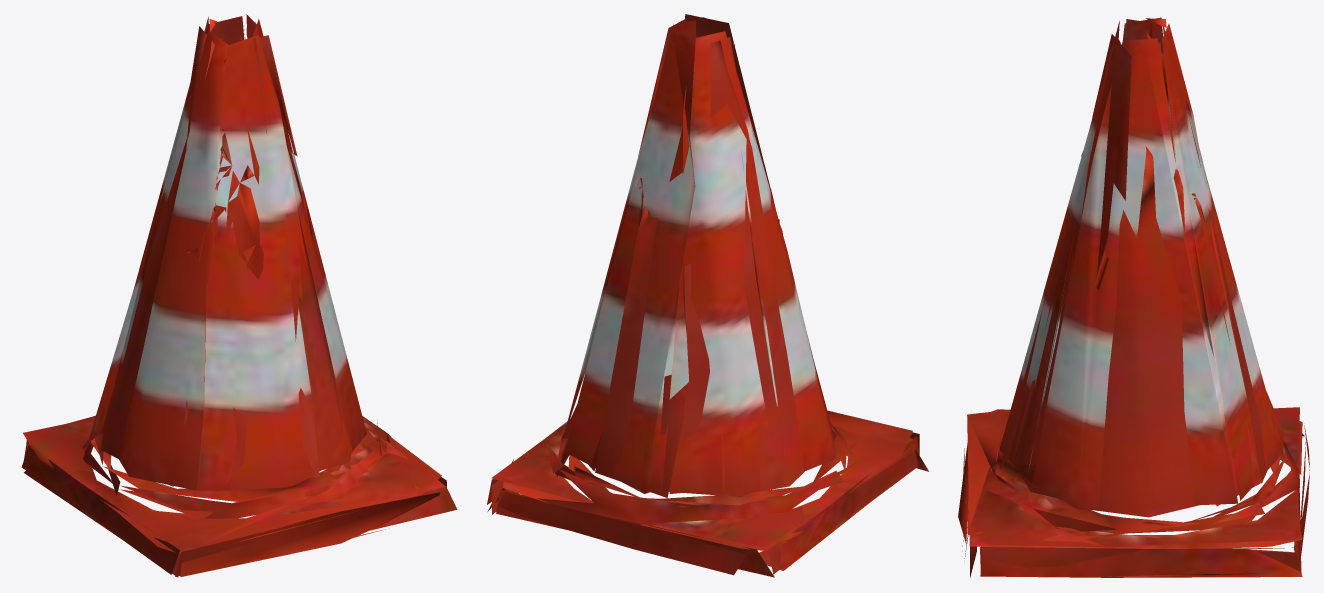
The model's file is drift_pylone.glb.
3 views of the same model, side by side, from view 1: azimuth 30°, elevation 25°; view 2: azimuth 150°, elevation 25°; view 3: azimuth 270°, elevation 25° (orthographic). The views are drawn at different scales.
Parts seen in each view (by area): view 1: Prop; view 2: Prop; view 3: Prop.
Part boxes in pixels (bbox=[...]): Prop: bbox=[21, 14, 457, 577]; Prop: bbox=[487, 14, 929, 577]; Prop: bbox=[958, 17, 1309, 577].
Bounding box in the file's own units: 0.6681 × 1.01 × 0.6624.
1 material, 1 textured.
